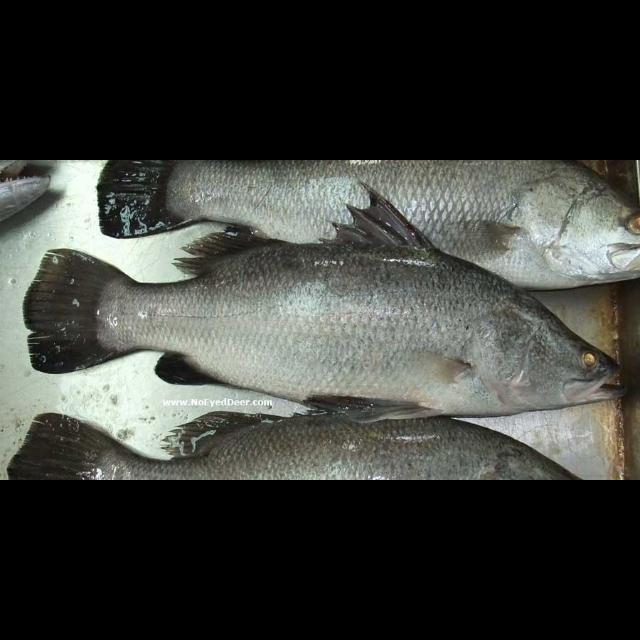Seabass: (22, 178, 626, 416), (98, 160, 640, 290)
